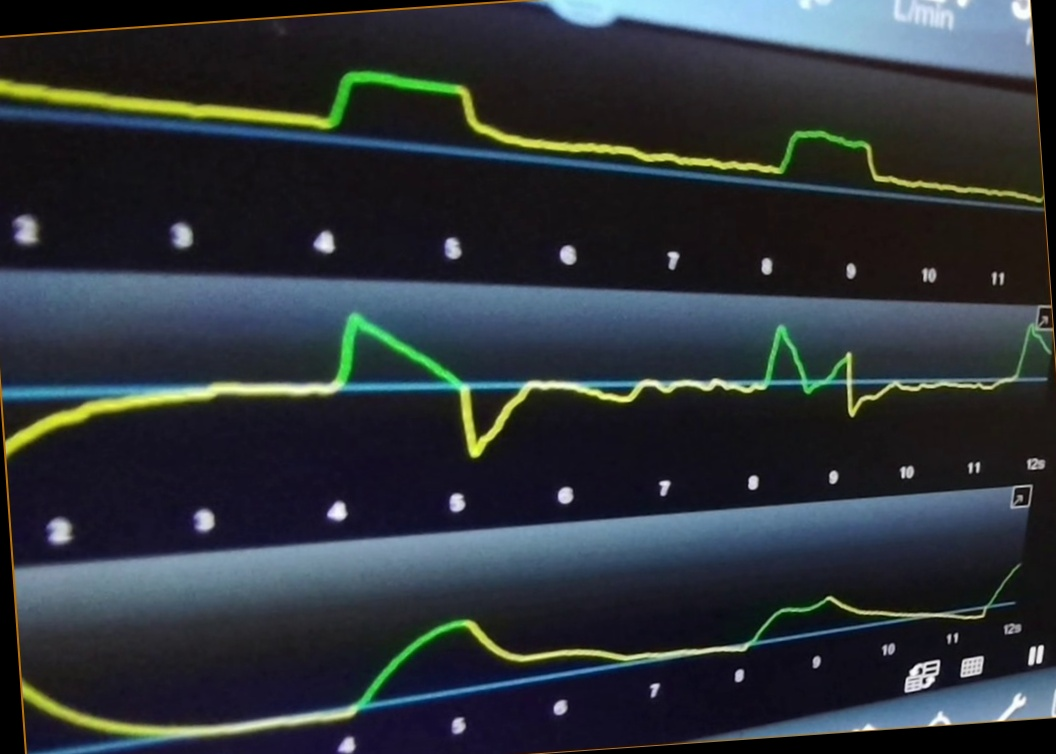Double_Triggering Flow: (11, 301, 1054, 465)
Double_Triggering Volume: (28, 560, 1024, 744)
